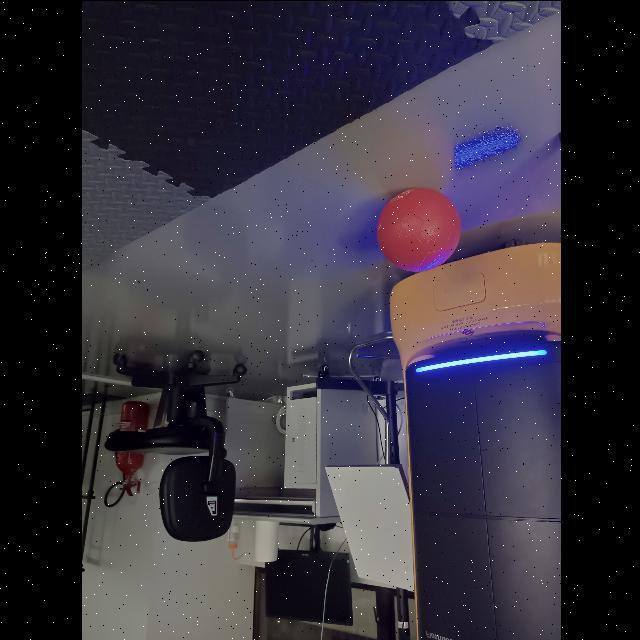R: (376, 186, 458, 270)
